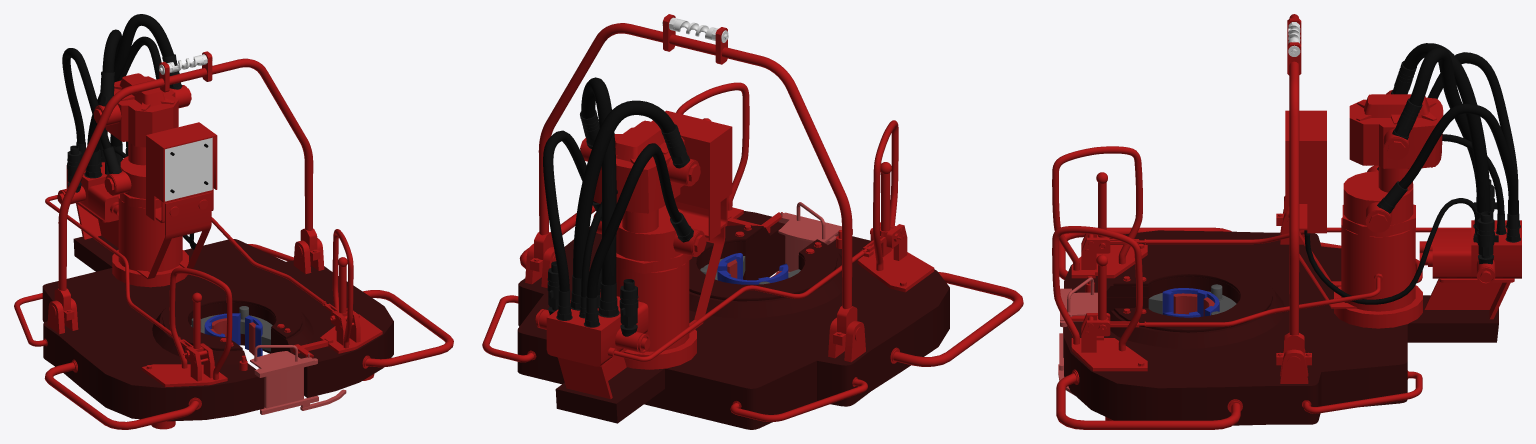
Rendered from GKSH_ALL.FBX.
3 views of the same model, side by side, from view 1: azimuth 30°, elevation 25°; view 2: azimuth 150°, elevation 25°; view 3: azimuth 270°, elevation 25° (orthographic). The views are drawn at different scales.
Parts seen in each view (by area): view 1: Group001, Box001, Line019, Rectangle001, Ekran, Cylinder176, Line017, Cylinder066; view 2: Group001, Box001, Line019, Cylinder176, Rectangle001, Cylinder066; view 3: Group001, Box001, Line019, Cylinder176, Rectangle001, Line017.
Boxes of the visible parts, left/top/right/bottom form: Group001: left=14, top=51, right=453, bottom=429; Box001: left=42, top=235, right=393, bottom=421; Line019: left=62, top=14, right=196, bottom=249; Rectangle001: left=250, top=345, right=346, bottom=414; Ekran: left=165, top=137, right=212, bottom=201; Cylinder176: left=67, top=54, right=182, bottom=192; Line017: left=191, top=306, right=272, bottom=351; Cylinder066: left=159, top=54, right=212, bottom=74; Group001: left=482, top=14, right=1023, bottom=421; Box001: left=517, top=211, right=949, bottom=429; Line019: left=543, top=77, right=681, bottom=298; Cylinder176: left=547, top=110, right=693, bottom=336; Rectangle001: left=778, top=202, right=852, bottom=272; Cylinder066: left=662, top=17, right=728, bottom=42; Group001: left=1052, top=14, right=1521, bottom=429; Box001: left=1064, top=230, right=1498, bottom=425; Line019: left=1304, top=43, right=1518, bottom=304; Cylinder176: left=1304, top=61, right=1520, bottom=264; Rectangle001: left=1058, top=277, right=1097, bottom=395; Line017: left=1148, top=284, right=1236, bottom=315.
Bounding box in the file's own units: 957 × 753 × 964.
